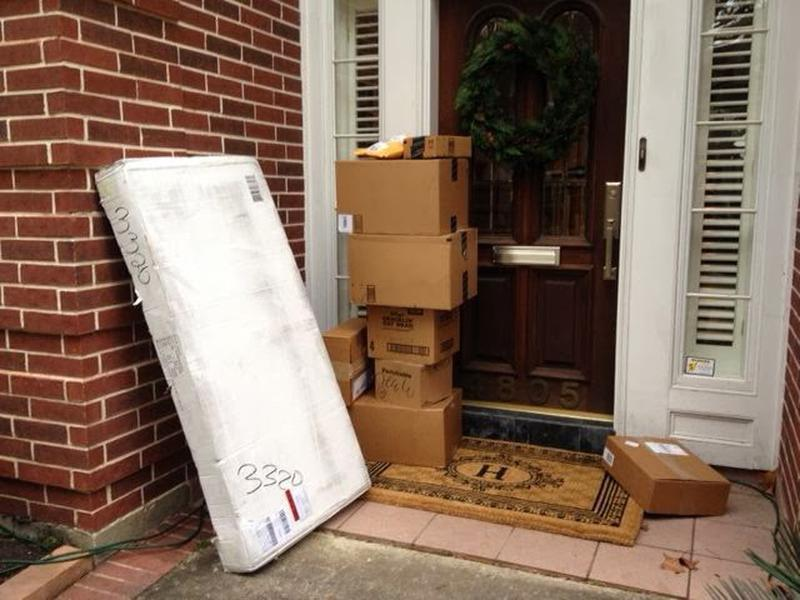package: (86, 145, 380, 580), (592, 427, 733, 525), (344, 226, 481, 312), (330, 154, 469, 238), (352, 393, 471, 474), (361, 302, 465, 368), (369, 358, 454, 411)
